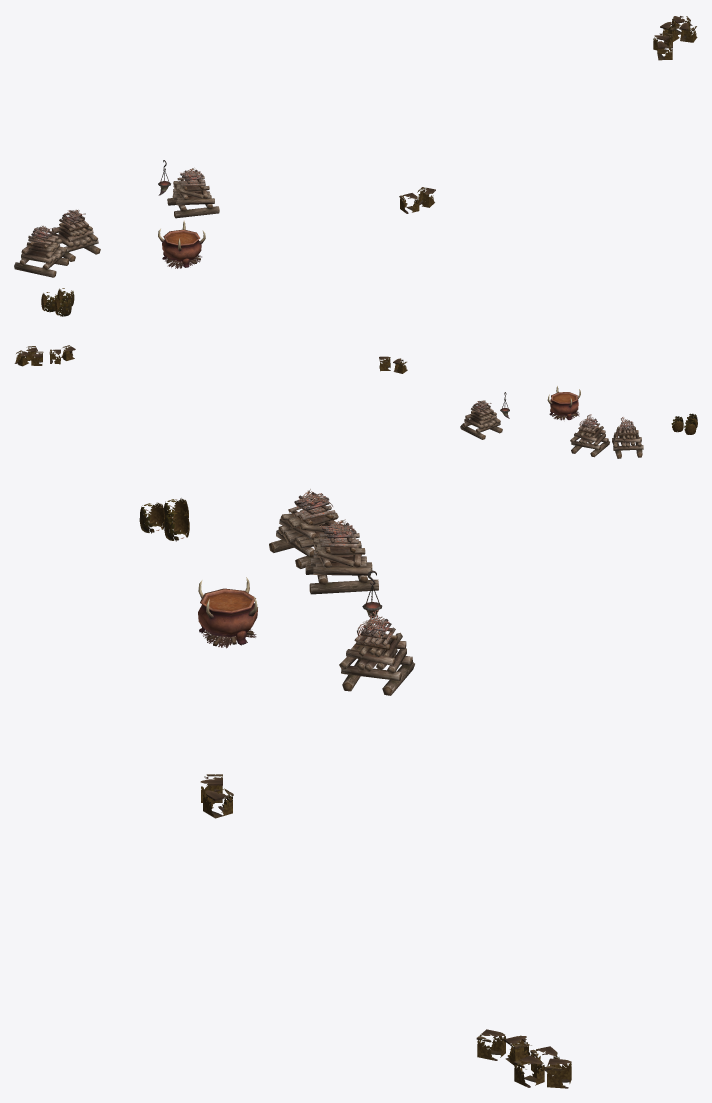
The model's file is yanshi15_wujian1_1.fbx.
The picture shows the model from 3 angles, top to bottom: view 1: azimuth 30°, elevation 25°; view 2: azimuth 150°, elevation 25°; view 3: azimuth 270°, elevation 25°; orthographic projection. The views are drawn at different scales.
Parts seen in each view (by area): view 1: yanshi15_wujian1_1; view 2: yanshi15_wujian1_1; view 3: yanshi15_wujian1_1.
Part boxes in pixels (x1,y1,x2,y2): yanshi15_wujian1_1: [14, 16, 697, 316]; yanshi15_wujian1_1: [14, 345, 697, 458]; yanshi15_wujian1_1: [139, 489, 571, 1088].
Size of the model in its own units: 5475 by 397 by 1758.
